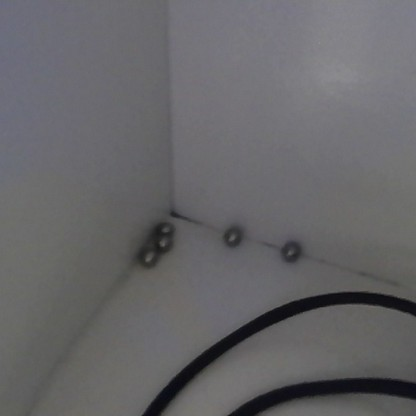ironball: (276, 238, 302, 264), (132, 246, 159, 267), (220, 225, 244, 247), (152, 219, 178, 234), (151, 233, 171, 252)
